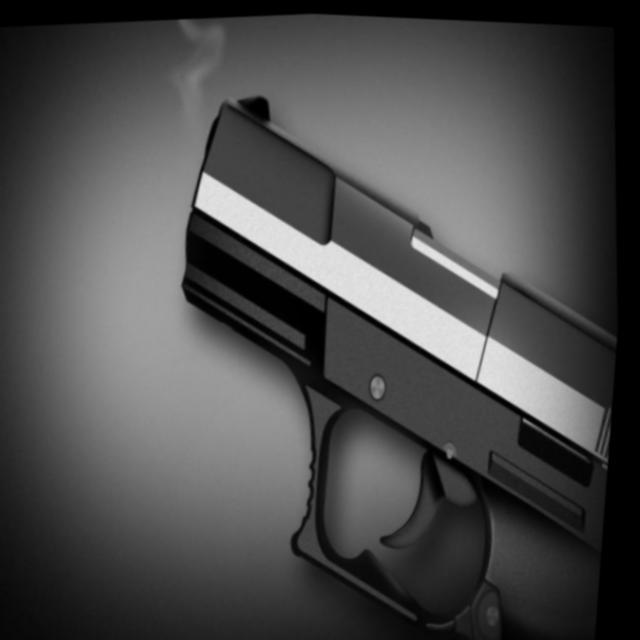weapon: (148, 55, 637, 640)
